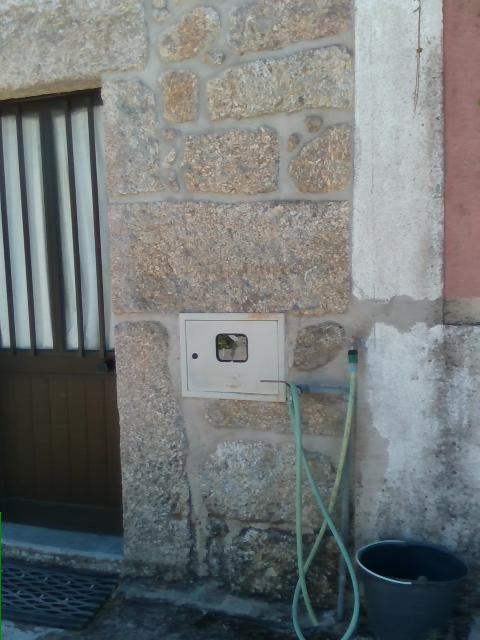door: (0, 72, 125, 560)
